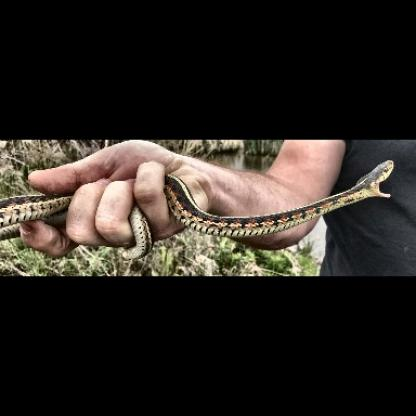Snake: (93, 156, 405, 253)
